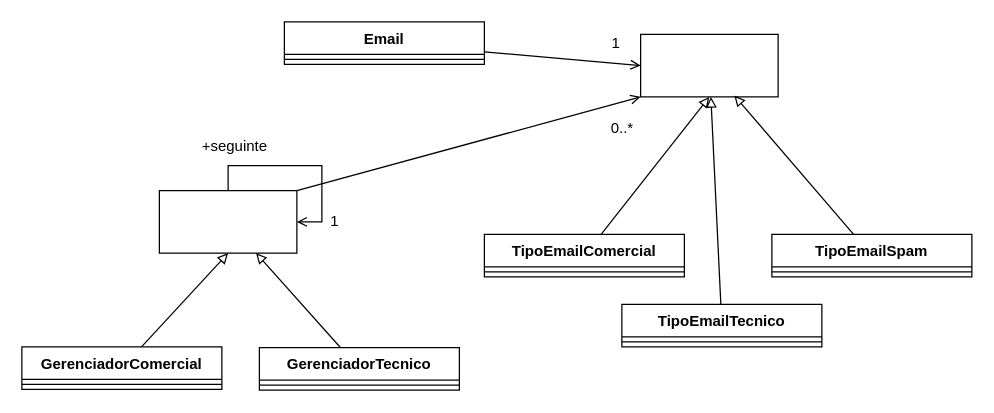
Image size: 994x413. Some labels were removed from this diagram. The shapes that lost their labels are listed below. From the top down, each one's centre as x and y in pixels, then its label:
the point at 708,65: «interface» TipoEmail
the point at 227,221: «abstract» Gerenciador
